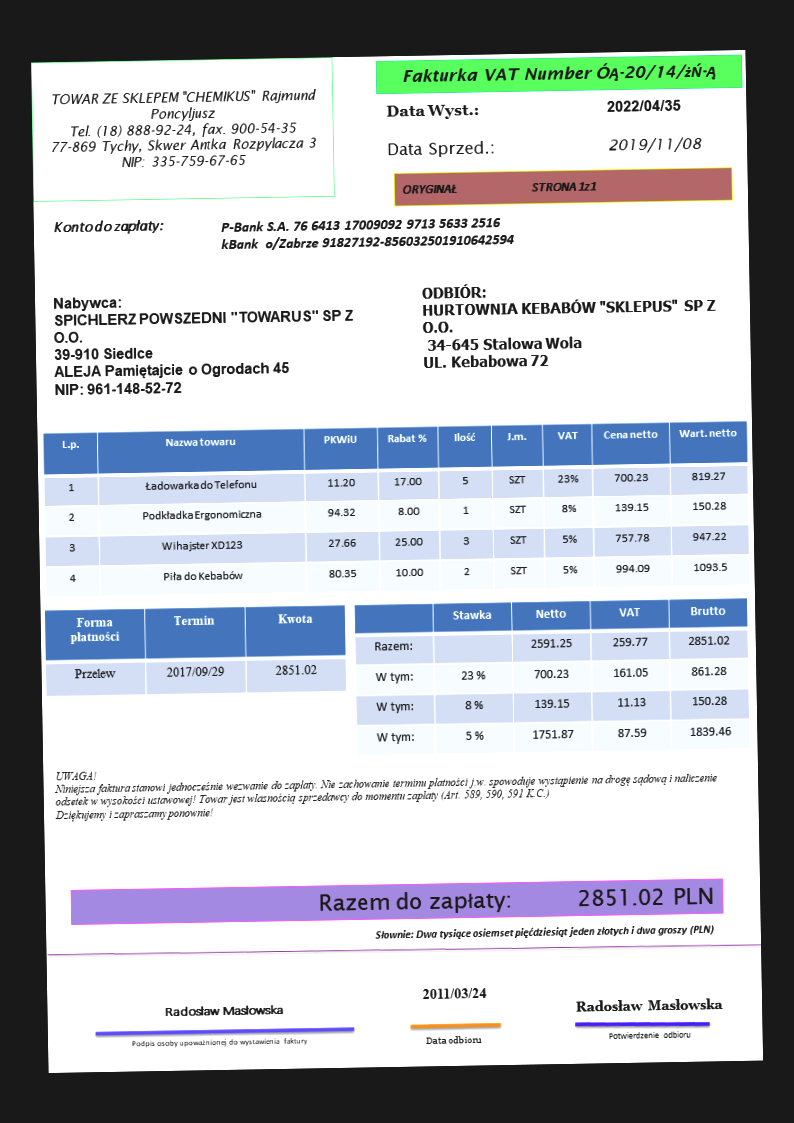Table: (41, 417, 750, 597), (351, 595, 750, 756), (44, 604, 346, 697)
TextBox: (54, 754, 723, 824), (49, 287, 359, 400), (417, 277, 721, 373), (45, 82, 322, 174), (316, 882, 715, 918), (216, 212, 519, 255), (397, 59, 720, 89), (372, 919, 718, 945), (398, 177, 601, 200), (129, 1032, 312, 1051), (572, 995, 724, 1017), (49, 213, 166, 239), (383, 137, 498, 162), (161, 1000, 287, 1019), (605, 133, 706, 156), (383, 100, 483, 123), (603, 94, 683, 115), (417, 983, 490, 1004), (607, 1028, 694, 1043), (422, 1031, 485, 1048)
